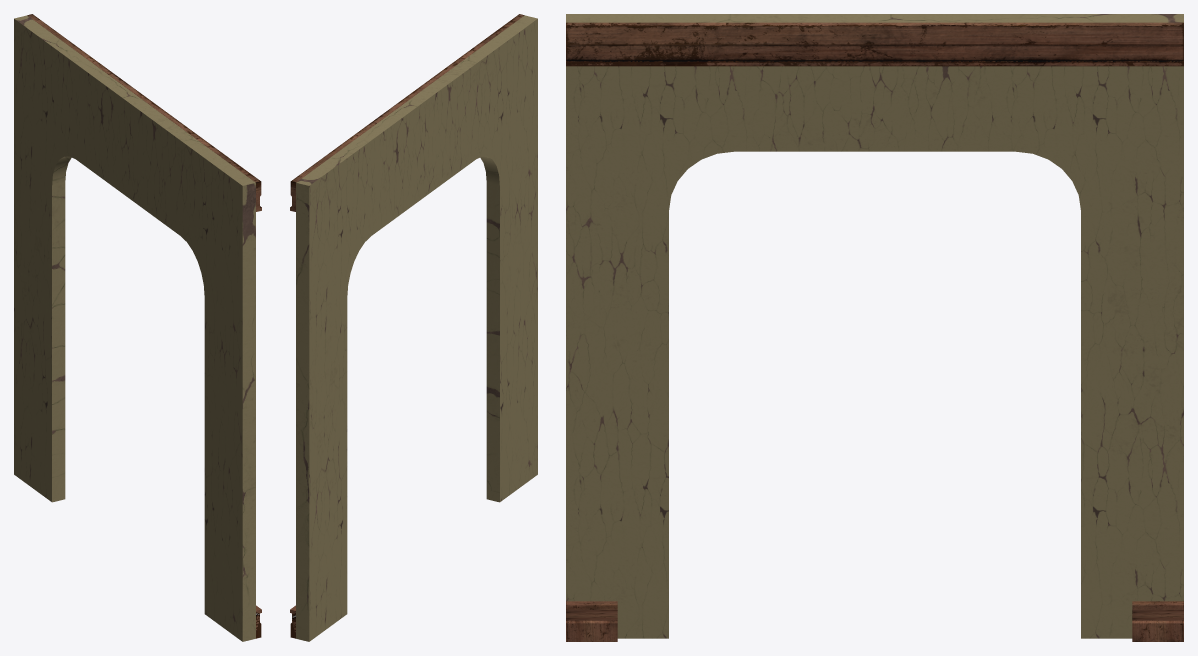
File: Wall_3m_DoorwayArch_C.fbx
The picture shows the model from 3 angles, left to right: view 1: azimuth 30°, elevation 25°; view 2: azimuth 150°, elevation 25°; view 3: azimuth 270°, elevation 25°; orthographic projection. The views are drawn at different scales.
Parts seen in each view (by area): view 1: Wall_3m_DoorwayArch_A.002; view 2: Wall_3m_DoorwayArch_A.002; view 3: Wall_3m_DoorwayArch_A.002.
Boxes of the visible parts, box(x1,y1,x2,y2) form: Wall_3m_DoorwayArch_A.002: box(14, 14, 261, 641); Wall_3m_DoorwayArch_A.002: box(290, 14, 537, 641); Wall_3m_DoorwayArch_A.002: box(566, 14, 1183, 641).
Bounding box in the file's own units: 0.1458 × 3.3 × 3.
